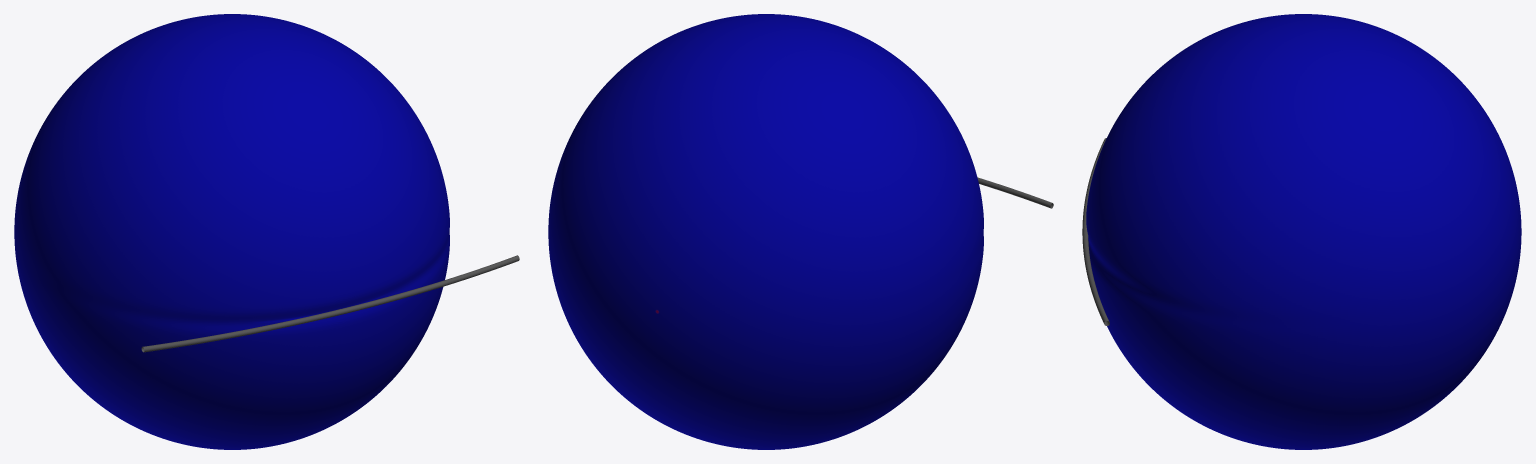
File: GUV_environment_liposome_model.glb
The picture shows the model from 3 angles, left to right: view 1: azimuth 30°, elevation 25°; view 2: azimuth 150°, elevation 25°; view 3: azimuth 270°, elevation 25°; orthographic projection.
Parts seen in each view (by area): view 1: world; view 2: world; view 3: world.
Part boxes in pixels (box(x1,y1,x2,y2)): world: box(14, 14, 519, 449); world: box(548, 14, 1053, 449); world: box(1082, 14, 1521, 449).
Size of the model in its own units: 600 by 600 by 604.
